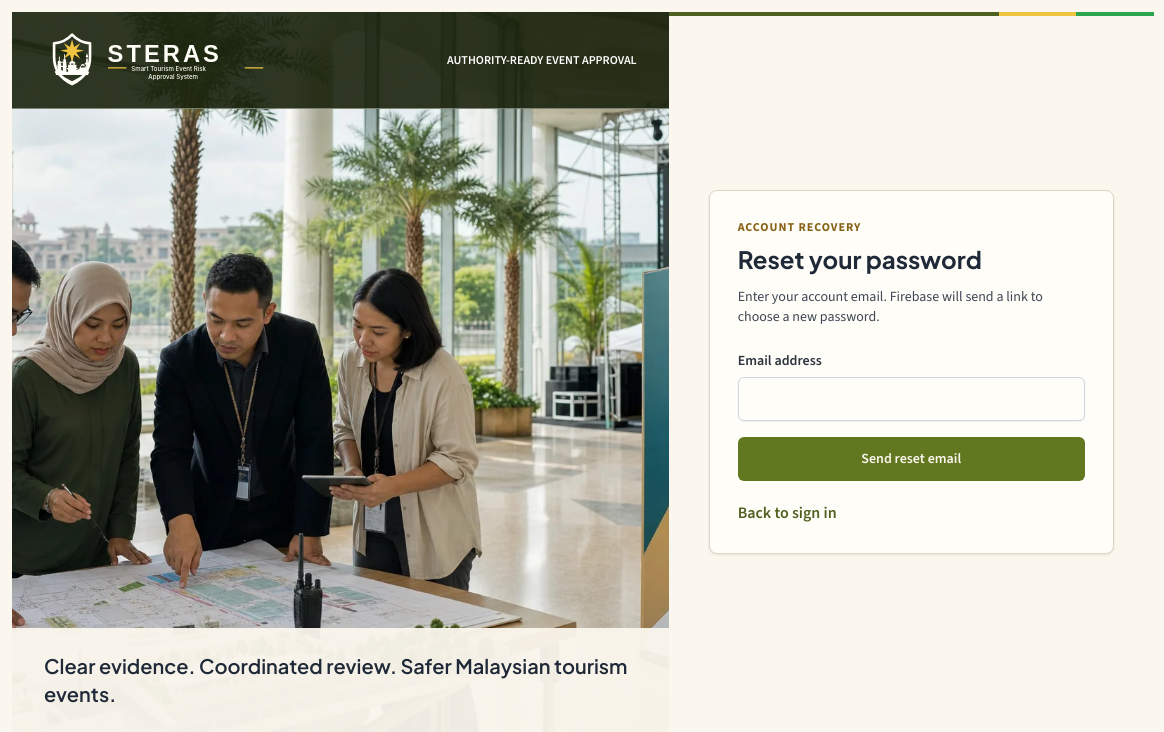
Test: Password recovery › uses Firebase email reset and shows an inline result without revealing account existence
The width and height of the screenshot is (1164, 732).
Type "viewer@example.com" into the field labelled "Email address" at x=911, y=399, box x1=738 y1=377 x2=1085 y2=421
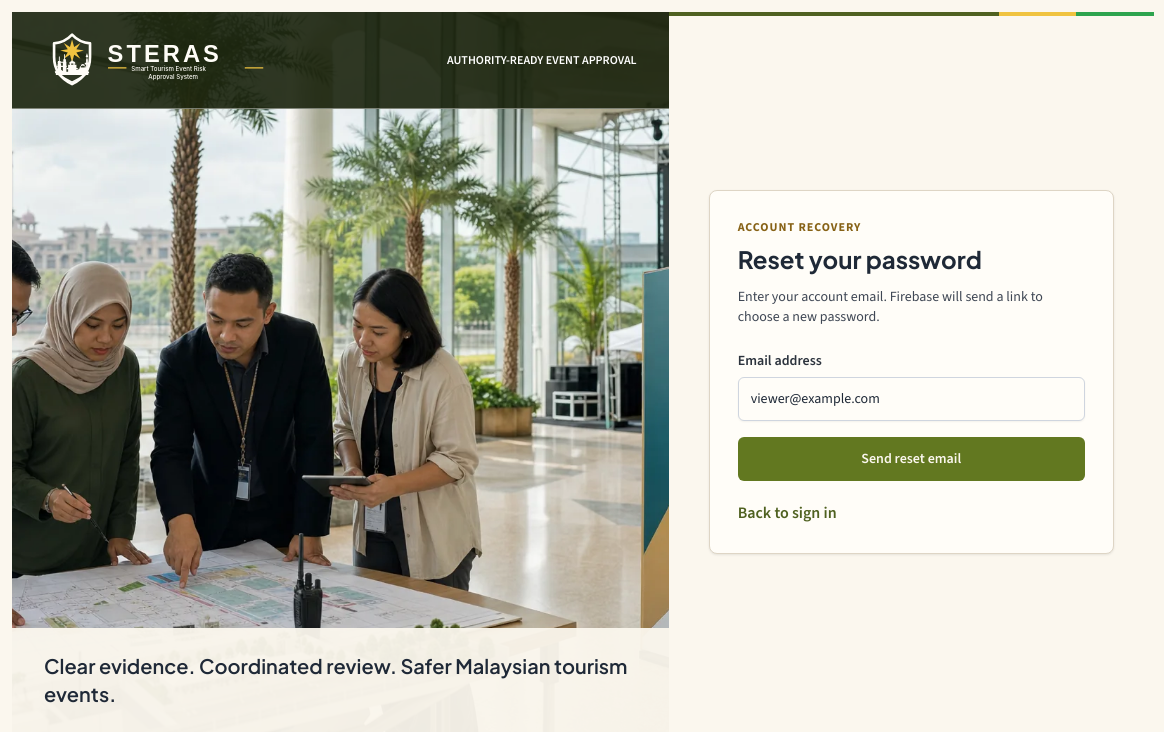
Click the button "Send reset email" at x=911, y=459, box x1=738 y1=437 x2=1085 y2=481
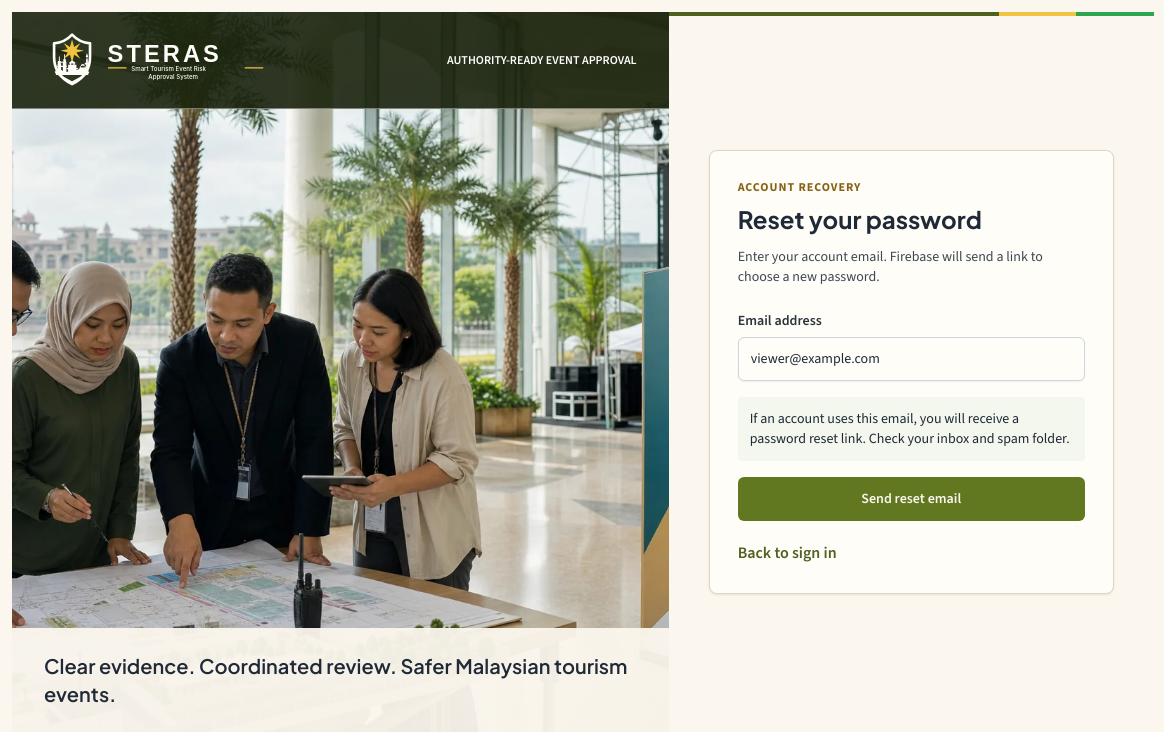
expect the message shows "If an account": met, box x1=750 y1=409 x2=1070 y2=448
